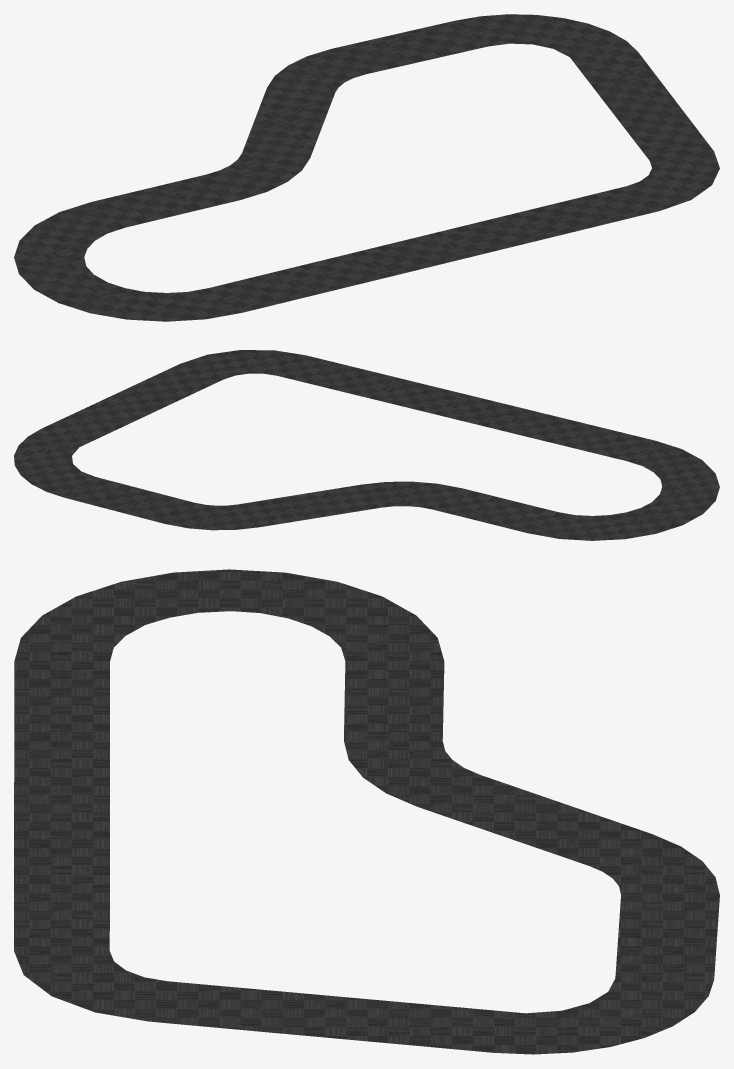
File: road_carpet.dae
3 views of the same model, one above another, from view 1: azimuth 30°, elevation 25°; view 2: azimuth 150°, elevation 25°; view 3: azimuth 270°, elevation 25° (orthographic). The views are drawn at different scales.
Visible parts, largest first — view 1: road; view 2: road; view 3: road.
Boxes of the visible parts, bbox=[...] form: road: bbox=[14, 14, 719, 321]; road: bbox=[14, 350, 719, 540]; road: bbox=[14, 569, 719, 1054].
Size of the model in its own units: 7.21 by 4.43 by 0.000494.
1 material, 1 textured.
